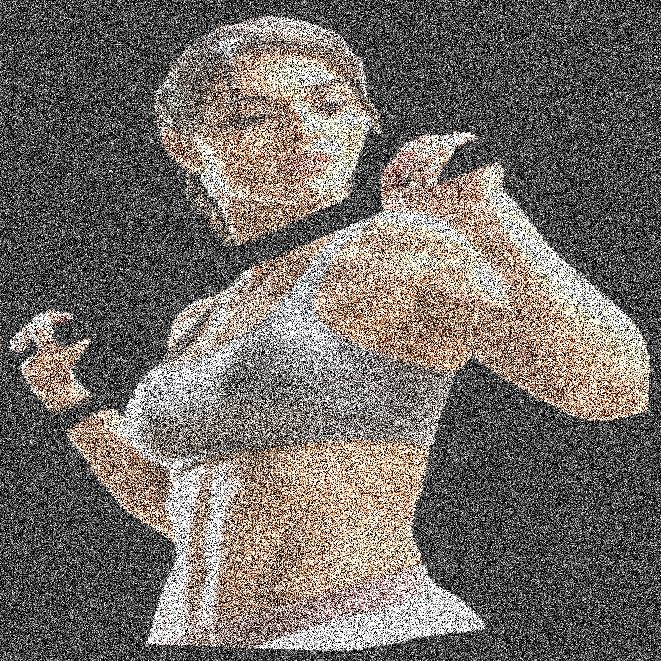Pessoa: (188, 0, 424, 660)
